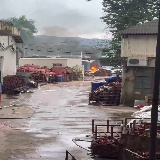fire: (89, 65, 97, 73)
